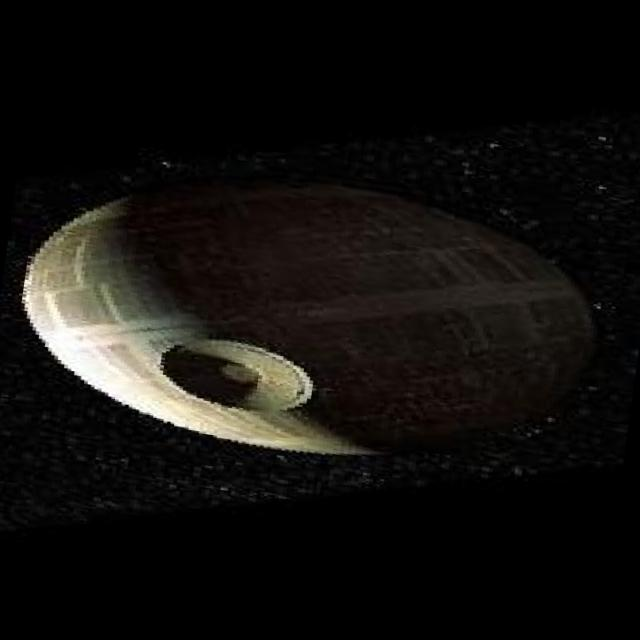Death Star: (0, 133, 614, 498)
